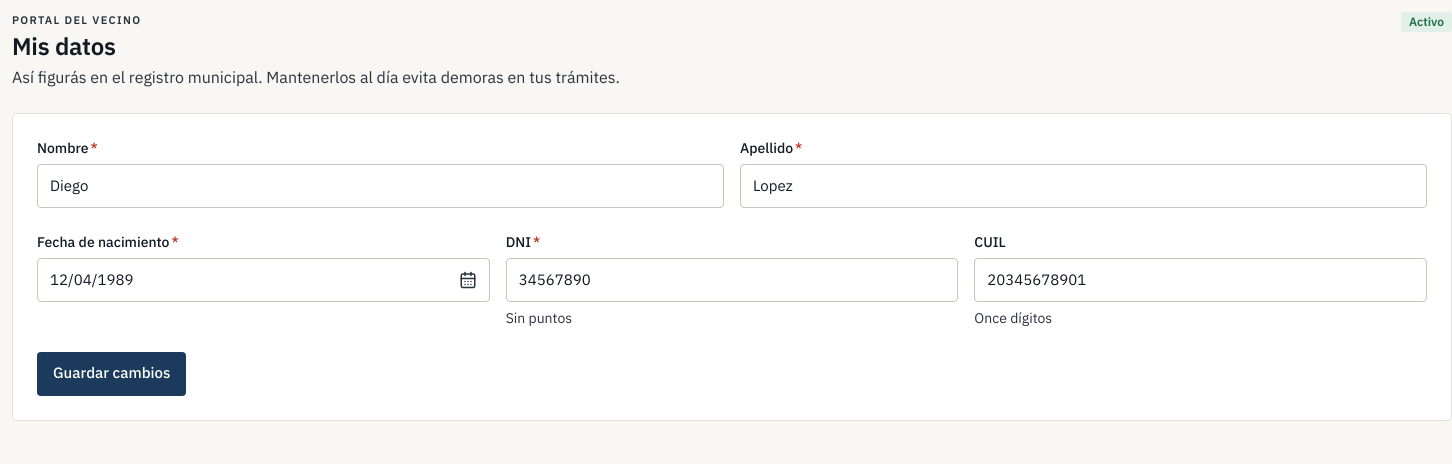
Perfil › rechaza Apellido invalido sin enviar la actualizacion
Expected: the field labelled "Nombre" is shown, [37,164,724,208]
Clear the field labelled "Apellido" at [1084, 186], box [740,164,1427,208]
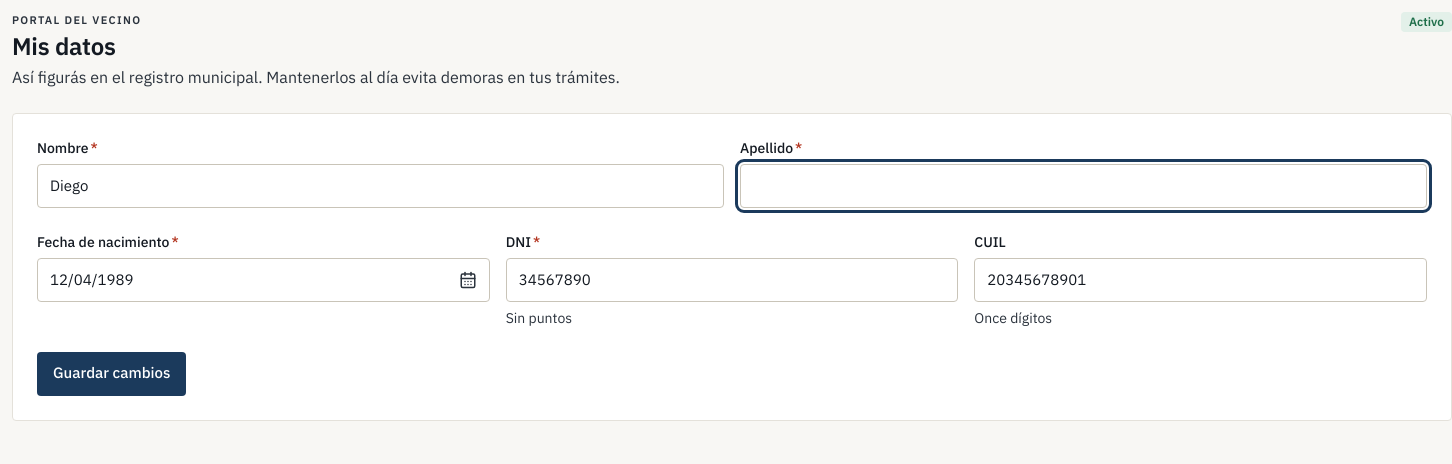
Click the button "Guardar cambios".
click(112, 374)  # box [37,352,186,396]
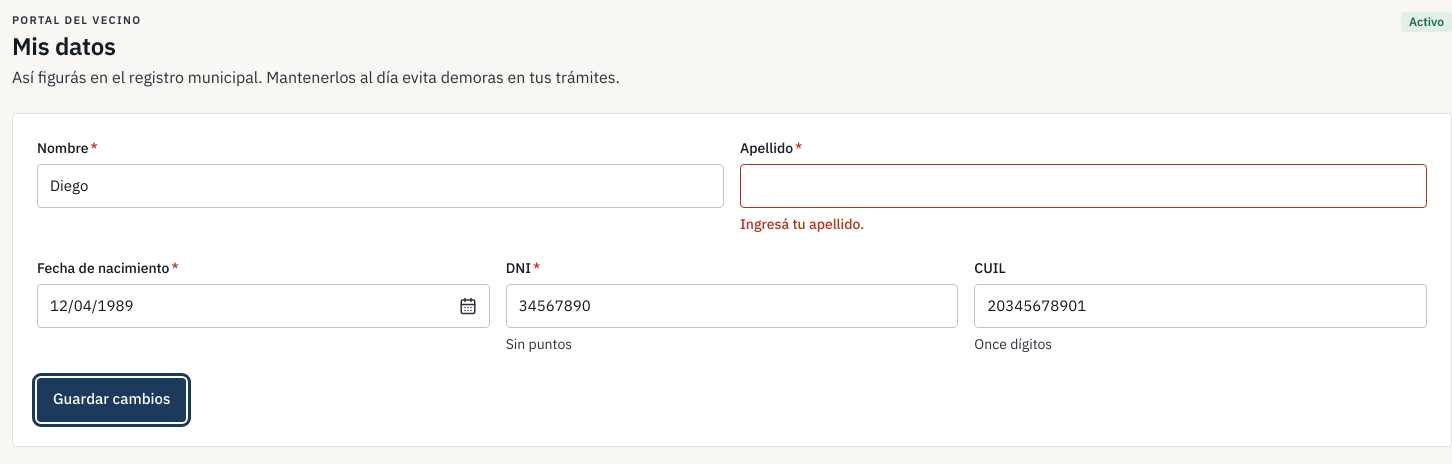
Result: the text "Ingresá tu apellido." is shown at [740,214,864,232]
